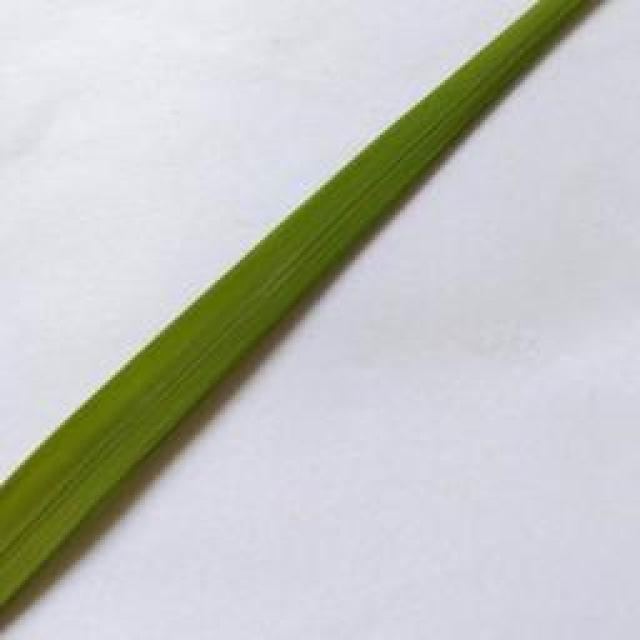Healthy-Plant: (0, 0, 600, 610)
